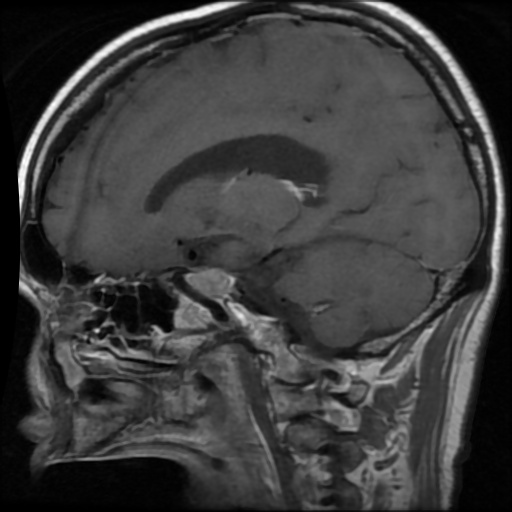pituitary: (183, 266, 229, 300)
